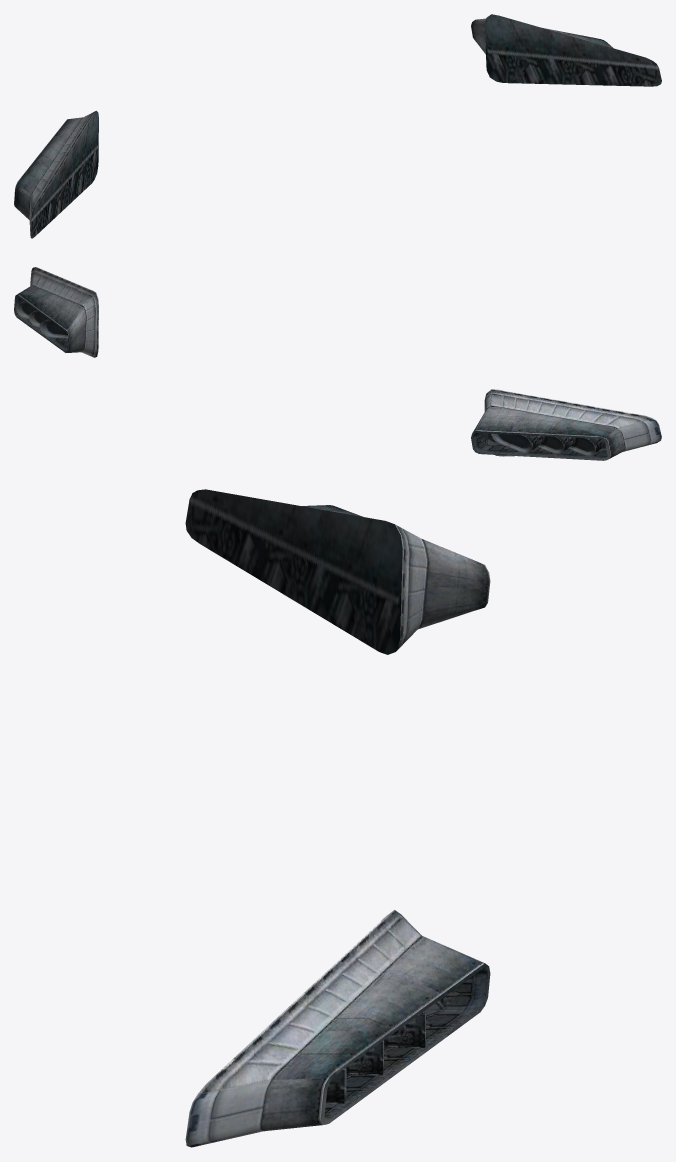
File: vt49_booster_s02_l0.fbx
The picture shows the model from 3 angles, top to bottom: view 1: azimuth 30°, elevation 25°; view 2: azimuth 150°, elevation 25°; view 3: azimuth 270°, elevation 25°; orthographic projection. The views are drawn at different scales.
Parts seen in each view (by area): view 1: mesh_node; view 2: mesh_node; view 3: mesh_node.
Boxes of the visible parts, box(x1,y1,x2,y2) form: mesh_node: box(14, 14, 661, 238); mesh_node: box(14, 267, 661, 460); mesh_node: box(185, 489, 490, 1147).
Bounding box in the file's own units: 33.67 × 3.47 × 7.04.
